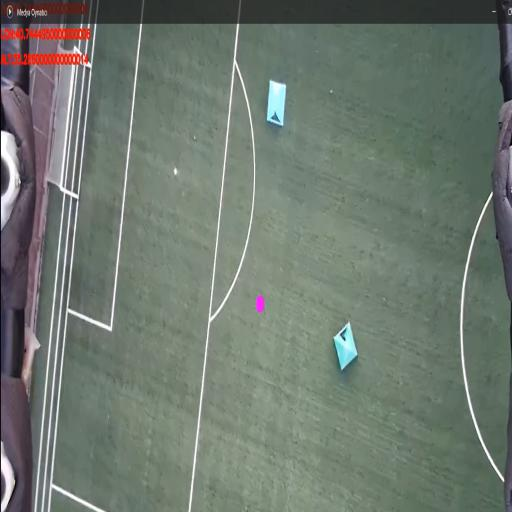tent: (332, 320, 359, 374), (265, 78, 288, 131)
